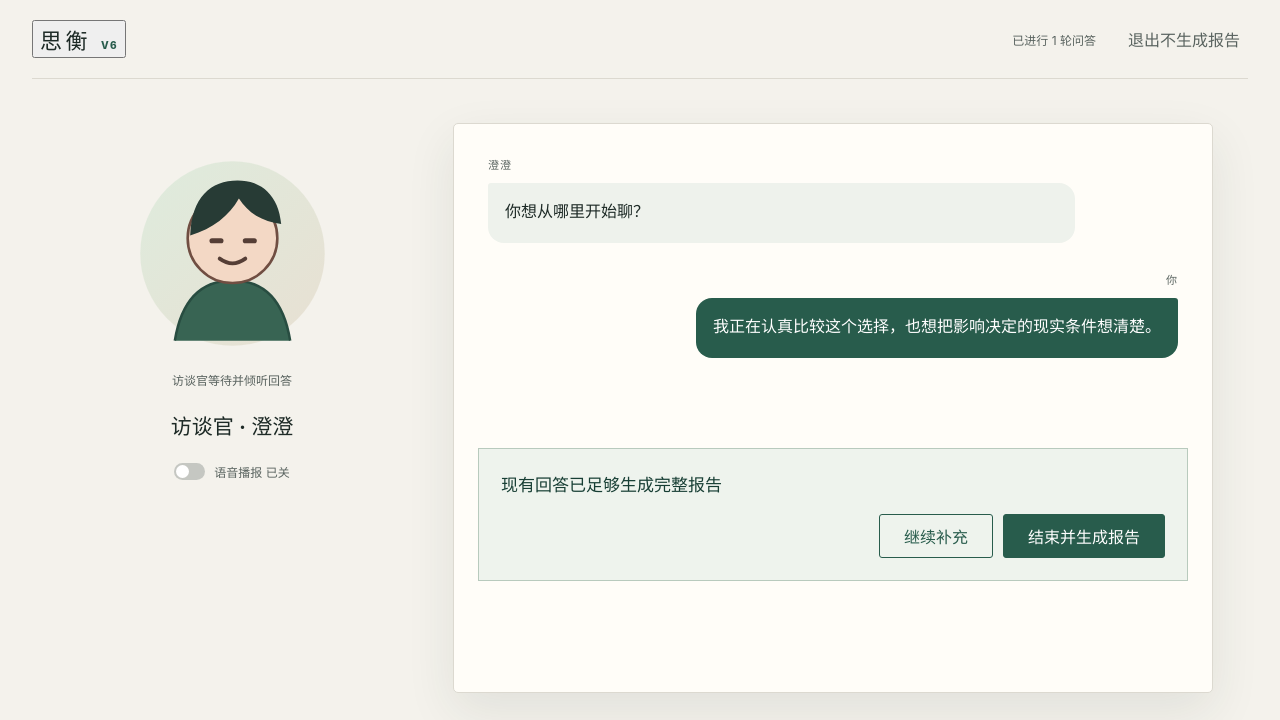
Scenario: InterviewView › shows the end card only when the exact evidence snapshot is fully ready
Check: the element with class "evidence-ready-card" shows "现有回答已足够生成完整报告", box [501,475,722,495]
Step 1. Click the button with class "secondary-button" → (936, 536), box [879,514,993,558]
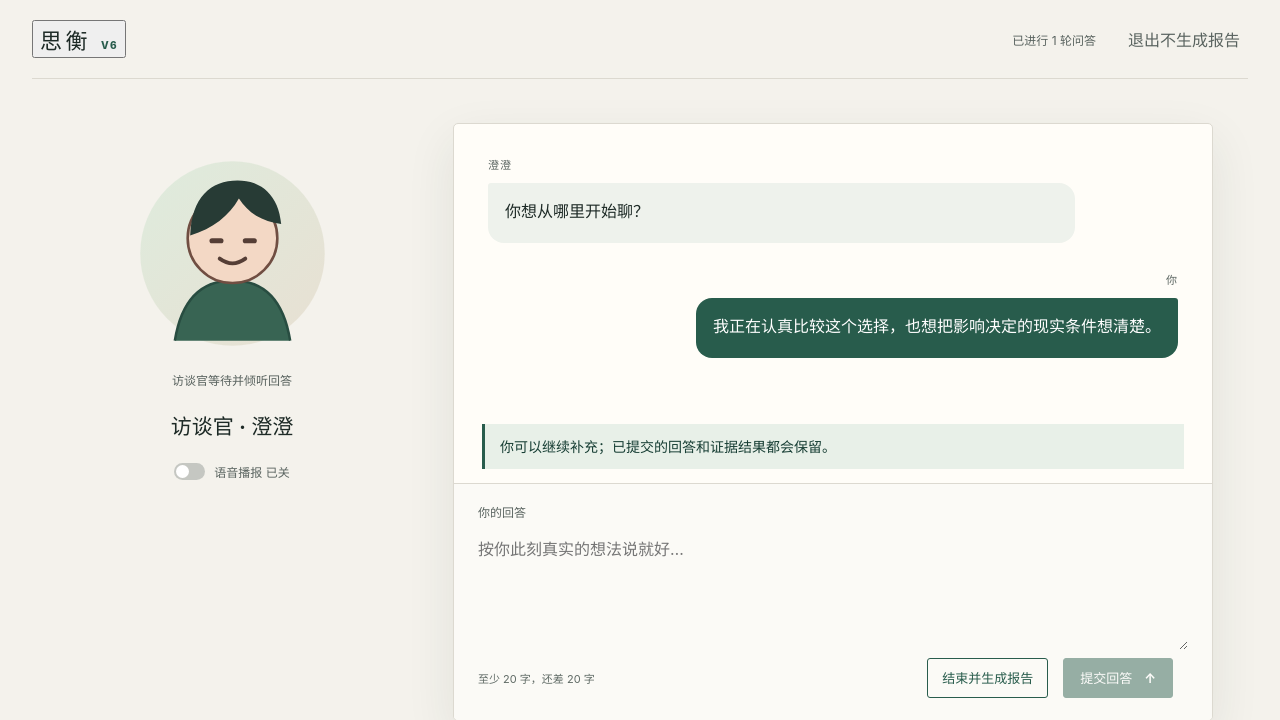
Check: the text box labelled "你的回答" is shown, box [478,528,1188,650]
